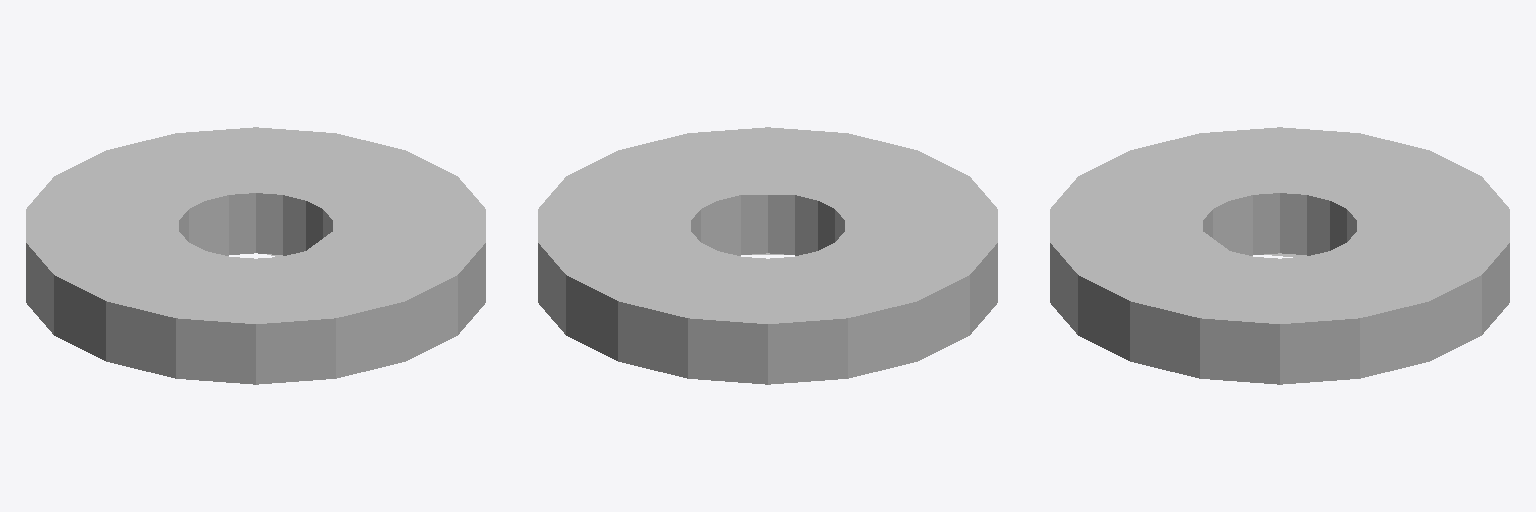
File: stamper_middle.obj
3 views of the same model, side by side, from view 1: azimuth 30°, elevation 25°; view 2: azimuth 150°, elevation 25°; view 3: azimuth 270°, elevation 25° (orthographic).
Visible parts, largest first — view 1: stamper_middle; view 2: stamper_middle; view 3: stamper_middle.
Boxes of the visible parts, x1=… form: stamper_middle: x1=26, y1=127, x2=485, y2=384; stamper_middle: x1=538, y1=127, x2=997, y2=384; stamper_middle: x1=1050, y1=127, x2=1509, y2=384.
Size of the model in its own units: 16.54 by 2.36 by 16.28.